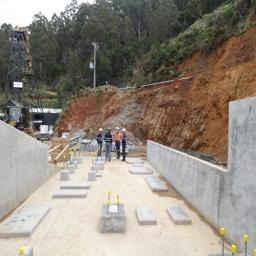hat: (97, 124, 106, 136), (121, 124, 129, 136), (106, 125, 114, 133), (116, 125, 121, 135)
no vest: (104, 133, 114, 152), (121, 132, 132, 149), (114, 133, 124, 151), (96, 134, 106, 146)
